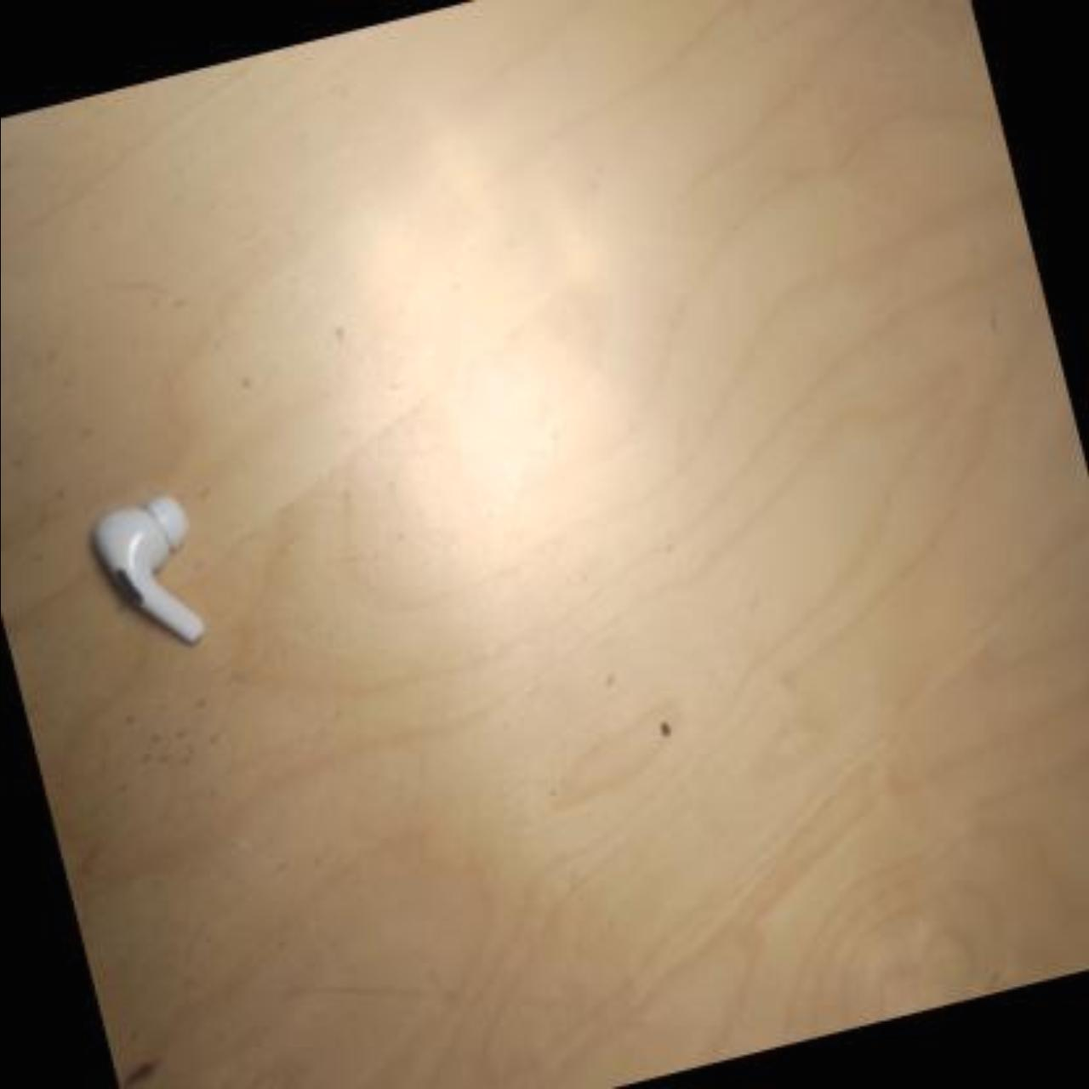Airpods_Units: (85, 490, 218, 676)
